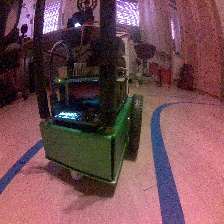rob: (38, 37, 143, 186)
